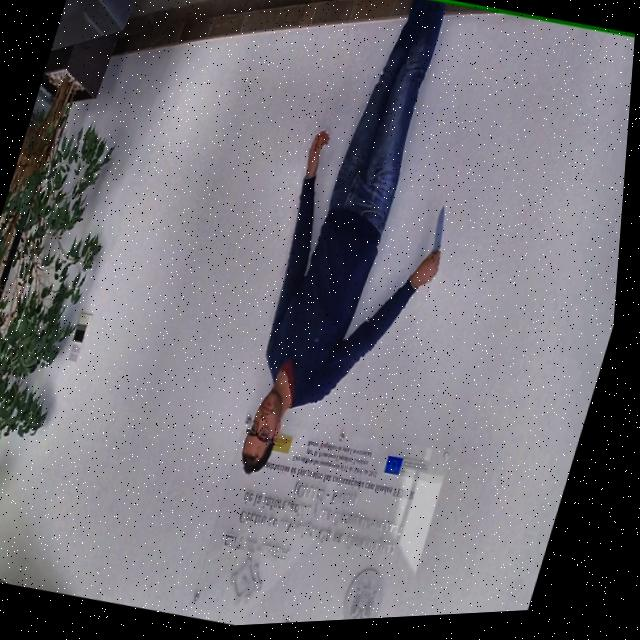knife: (430, 207, 456, 258)
